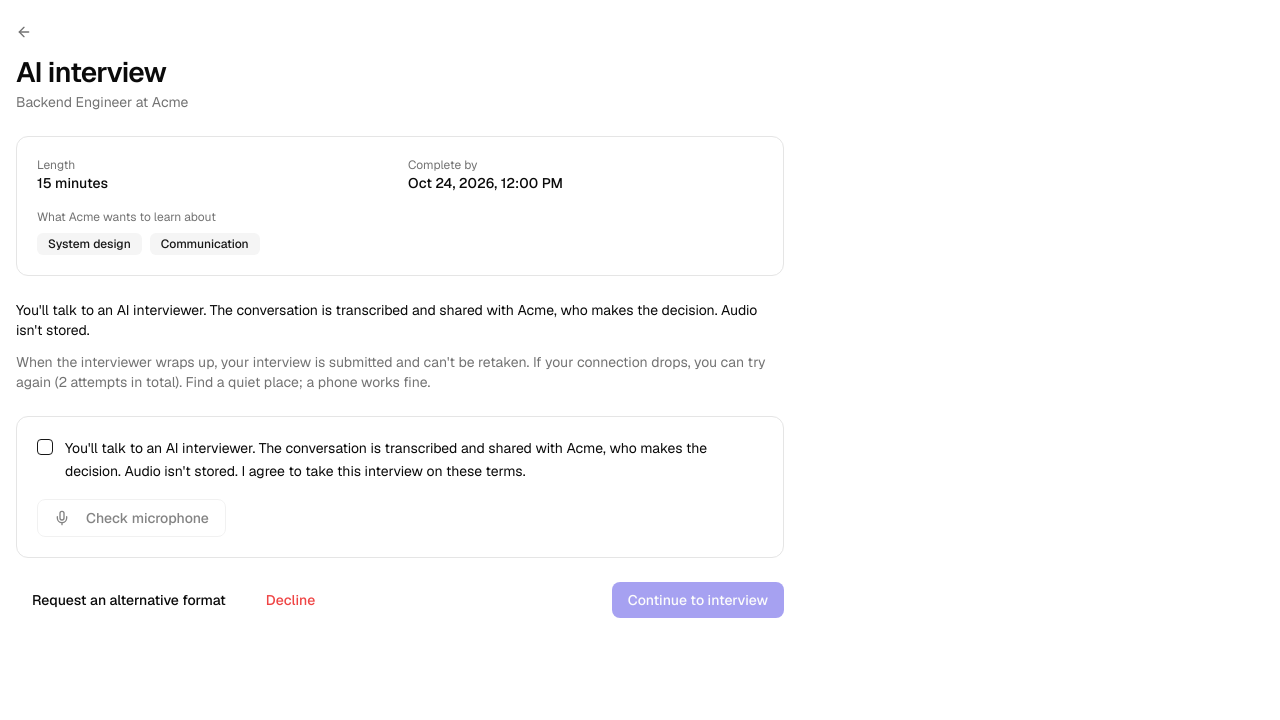
Test case: ScreeningInterviewView intro (SIT-053, SI-REQ-020) › sends an alternative-format request with the text
The width and height of the screenshot is (1280, 720).
Step 1. Click the button "Request an alternative format" → (129, 600), box [16, 582, 242, 618]
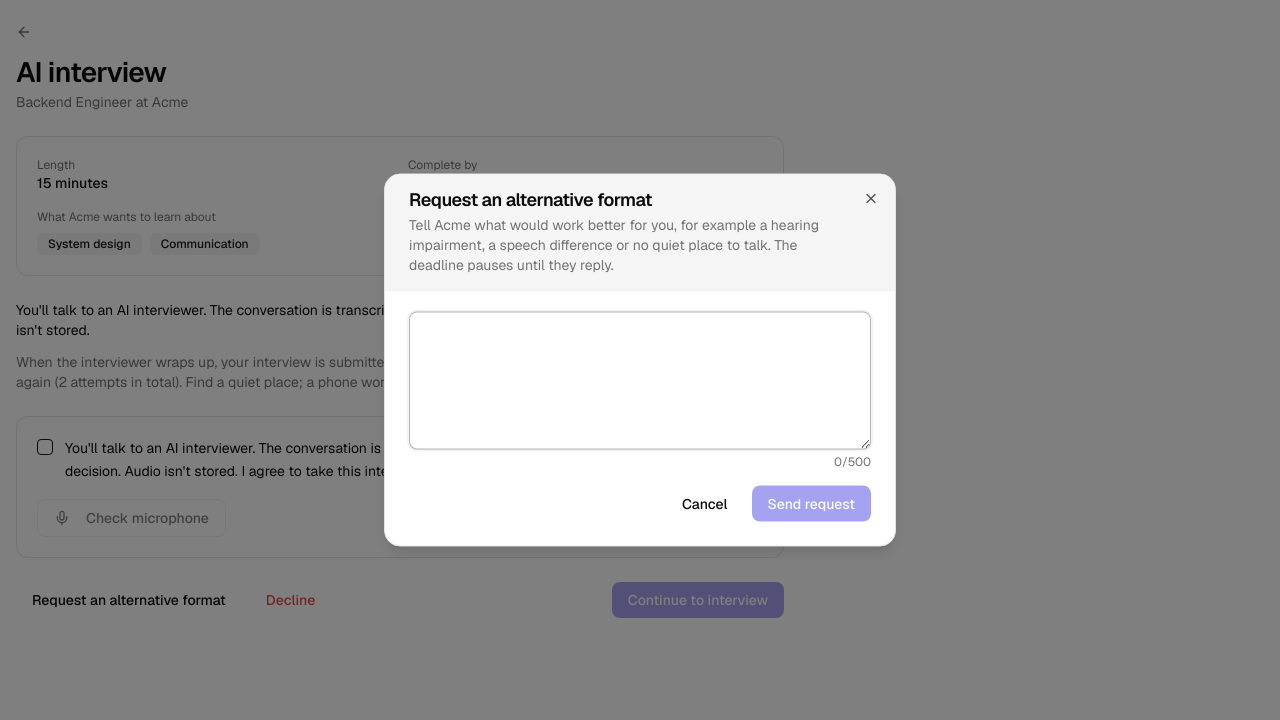
Expected: the button "Send request" is disabled, [752, 486, 871, 522]
Step 2. Type "I have a hearing impairment." into the text box → (640, 380), box [409, 312, 871, 450]
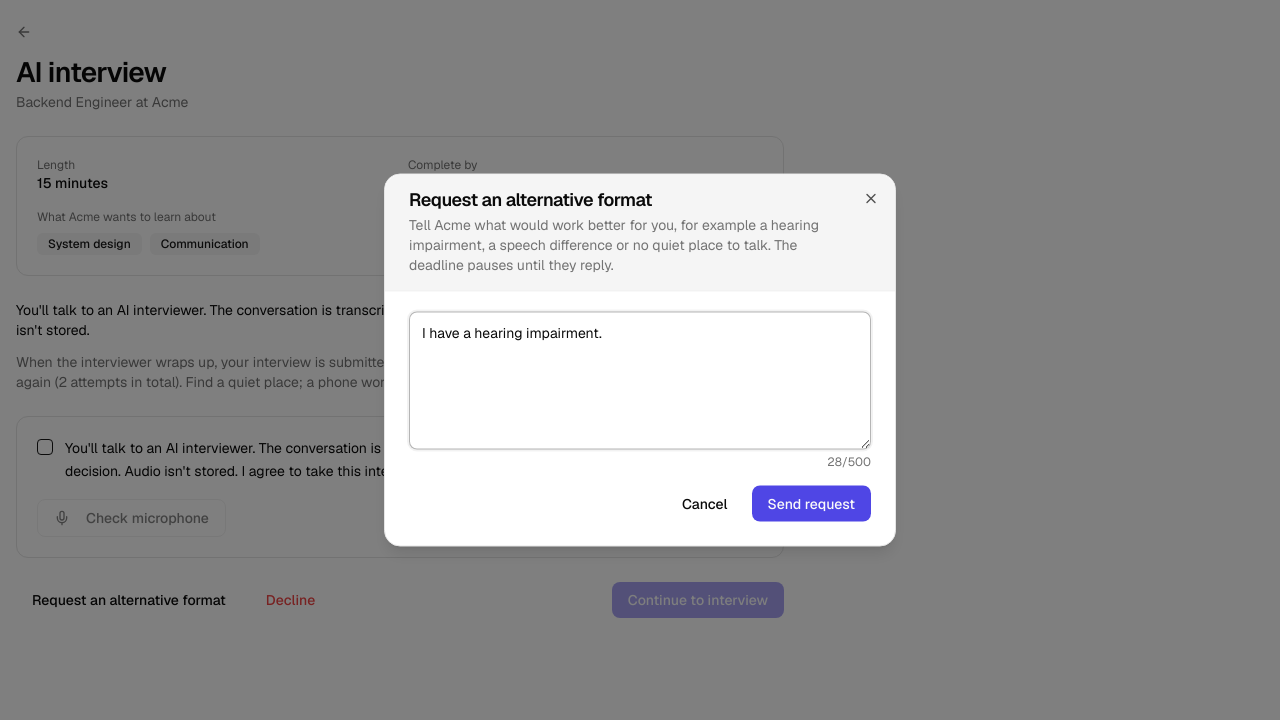
Step 3. Click the button "Send request" → (811, 504), box [752, 486, 871, 522]
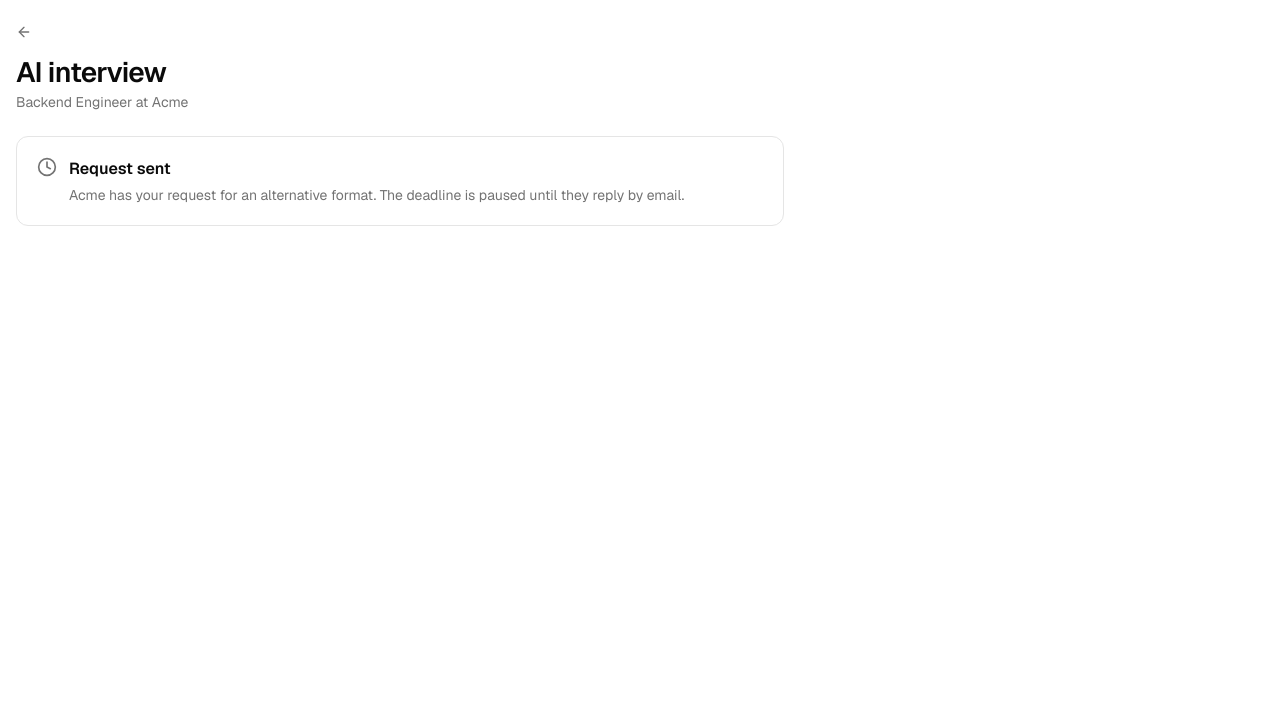
Expected: the heading "Request sent" is shown, [69, 158, 170, 179]
